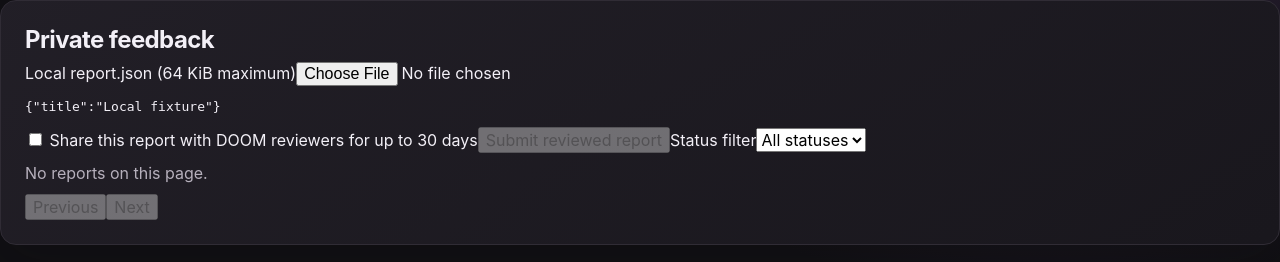
it: previews a selected report before explicit consent enables submission
This screenshot has width=1280, height=262.
Earlier steps of the test are not shown.
Check: the text "{\"title\":\"Local fixture\"}" is shown, box [25, 99, 221, 114]
Check: the button "Submit reviewed report" is disabled, box [478, 127, 670, 153]
Click the checkbox at {"x": 36, "y": 140}, box [29, 133, 42, 146]
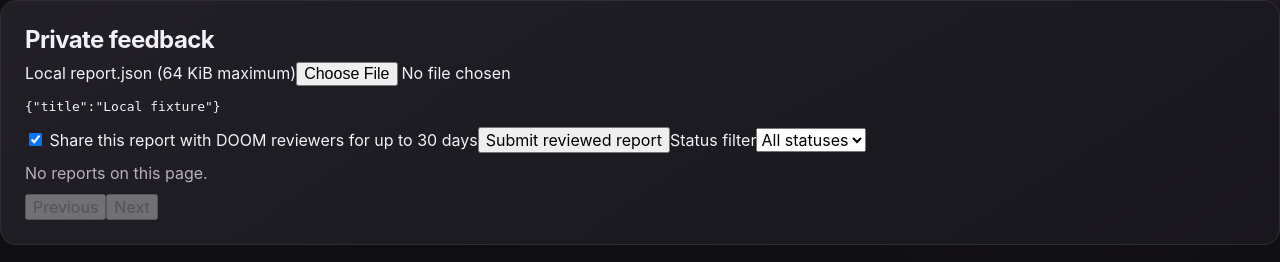
Check: the button "Submit reviewed report" is enabled, box [478, 127, 670, 153]
